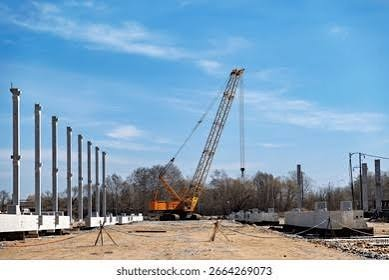crane: (146, 58, 258, 227)
